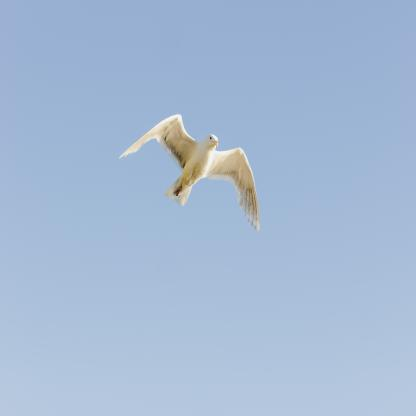bird: (119, 115, 260, 231)
